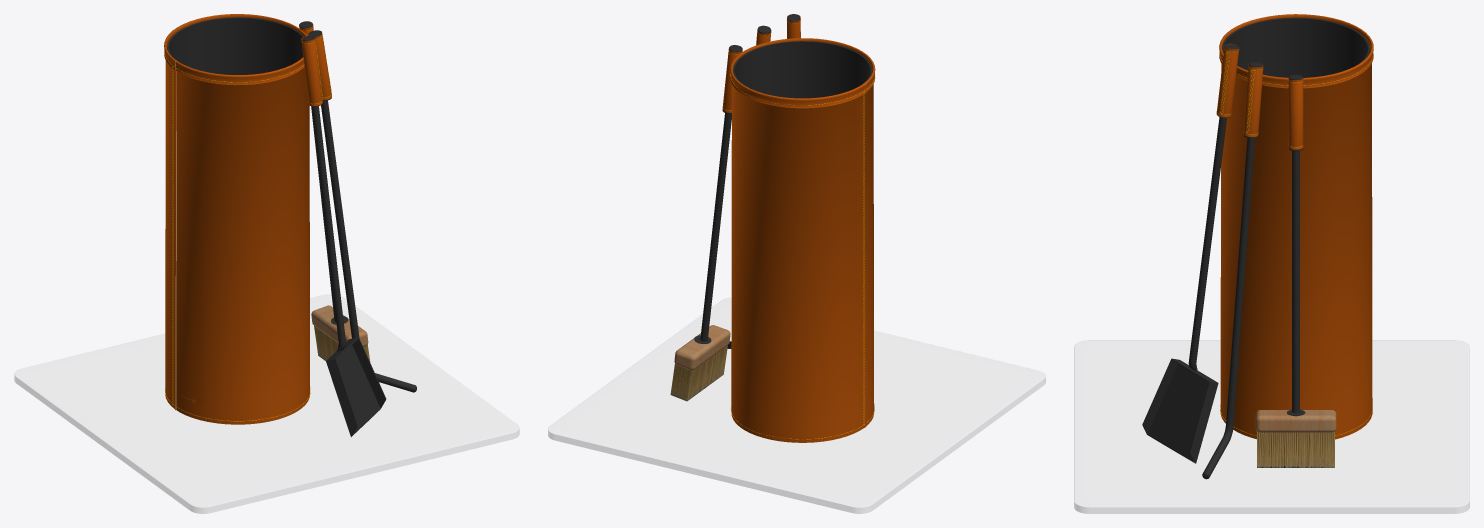
The model's file is kamin.glb.
3 renders of one model, left to right at view 1: azimuth 30°, elevation 25°; view 2: azimuth 150°, elevation 25°; view 3: azimuth 270°, elevation 25°, orthographic. The views are drawn at different scales.
Visible parts, largest first — view 1: Buffer Layer, Box 2, Tube, Cube_1, Cylinder_4, Cylinder, RUCHKA, Box_1, Array.2, RUCHKA_1; view 2: Buffer Layer, Box 2, Tube, Cylinder_1, Box_3_-_baked, Box_1, Array.2; view 3: Buffer Layer, Box 2, Tube, Cube_1, Cylinder_4, Box_3_-_baked, Cylinder, Cylinder_1, Box_1, RUCHKA_2, RUCHKA_1, RUCHKA.
Boxes of the visible parts, x1,y1,x2,y2 form: Buffer Layer: [164, 14, 309, 424]; Box 2: [14, 294, 519, 513]; Tube: [167, 17, 303, 74]; Cube_1: [326, 337, 386, 436]; Cylinder_4: [321, 100, 416, 392]; Cylinder: [311, 106, 345, 351]; RUCHKA: [301, 35, 322, 106]; Box_1: [311, 305, 368, 346]; Array.2: [164, 50, 310, 421]; RUCHKA_1: [308, 33, 331, 100]; Buffer Layer: [730, 38, 875, 442]; Box 2: [548, 298, 1045, 513]; Tube: [733, 41, 872, 98]; Cylinder_1: [700, 113, 731, 341]; Box_3_-_baked: [670, 345, 727, 401]; Box_1: [674, 325, 730, 370]; Array.2: [730, 74, 875, 439]; Buffer Layer: [1219, 14, 1373, 439]; Box 2: [1074, 340, 1469, 513]; Tube: [1222, 17, 1370, 77]; Cube_1: [1142, 358, 1218, 463]; Cylinder_4: [1202, 138, 1255, 479]; Box_3_-_baked: [1257, 431, 1334, 467]; Cylinder: [1188, 117, 1226, 371]; Cylinder_1: [1292, 151, 1299, 412]; Box_1: [1255, 410, 1336, 432]; RUCHKA_2: [1288, 77, 1303, 149]; RUCHKA_1: [1243, 64, 1263, 137]; RUCHKA: [1216, 43, 1239, 117].
Bounding box in the file's own units: 0.1 × 0.1105 × 0.1.
Materials: 28 (3 with a texture image).
